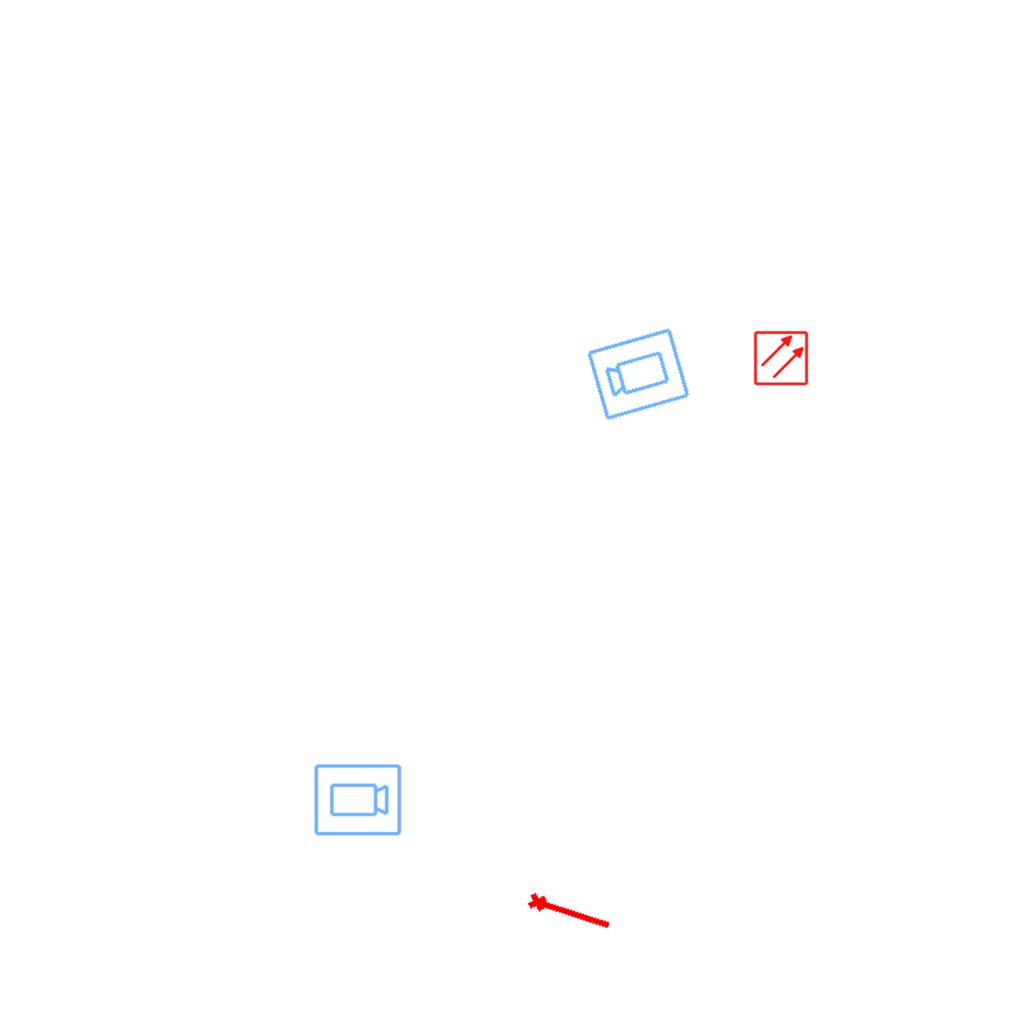ASR_Ansaugoeffnung: (524, 886, 616, 937)
KFO_Kamera_mit_Festobjektiv: (584, 323, 693, 424), (312, 762, 403, 839)
RMO_Rauchmelder_optischer: (753, 330, 809, 386)
